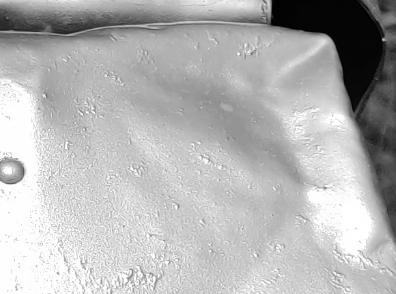dent: (1, 1, 396, 294)
